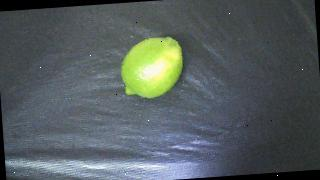LOCAL: (118, 35, 185, 99)
